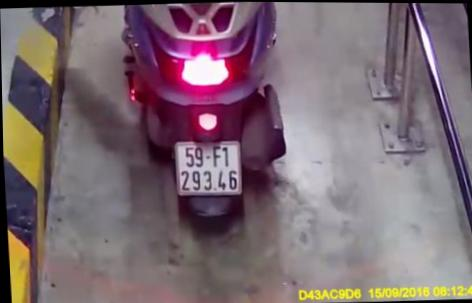LP: (171, 135, 244, 199)
